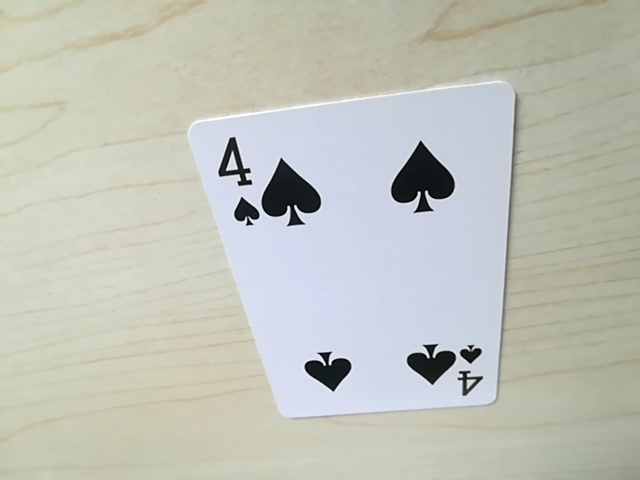ht 4: (209, 131, 263, 230), (450, 341, 485, 403)
